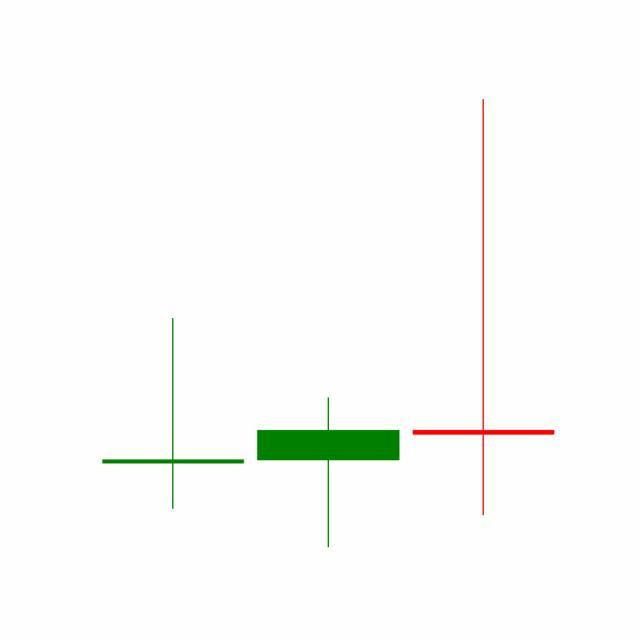Spinning Top: (406, 95, 562, 521)
